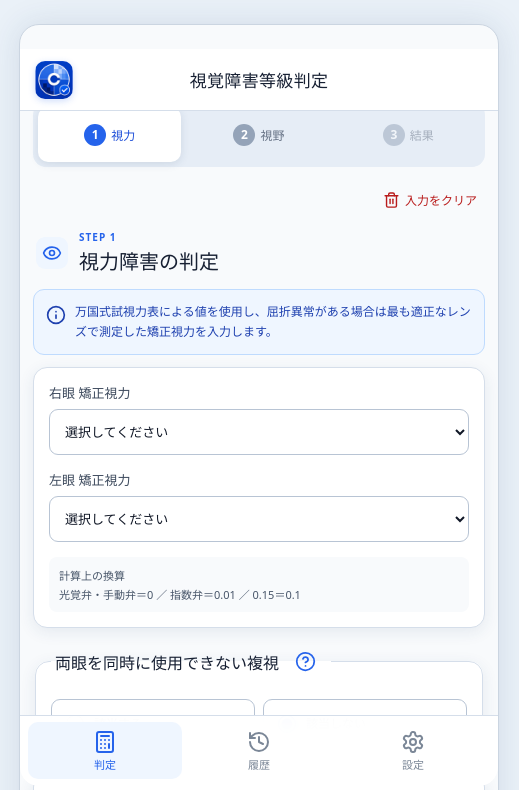
Test: 判定フロー › 未確認の矯正視力は判定しない
Select "0.04" in the dropdown labelled "右眼 矯正視力" at (259, 432), box [49, 409, 469, 455]
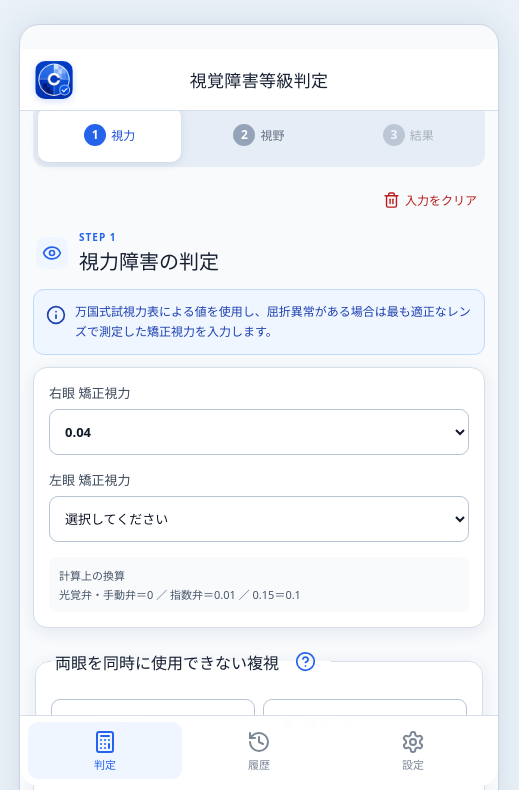
Select "手動弁" in the dropdown labelled "左眼 矯正視力" at (259, 519), box [49, 496, 469, 542]
(page scrolled)
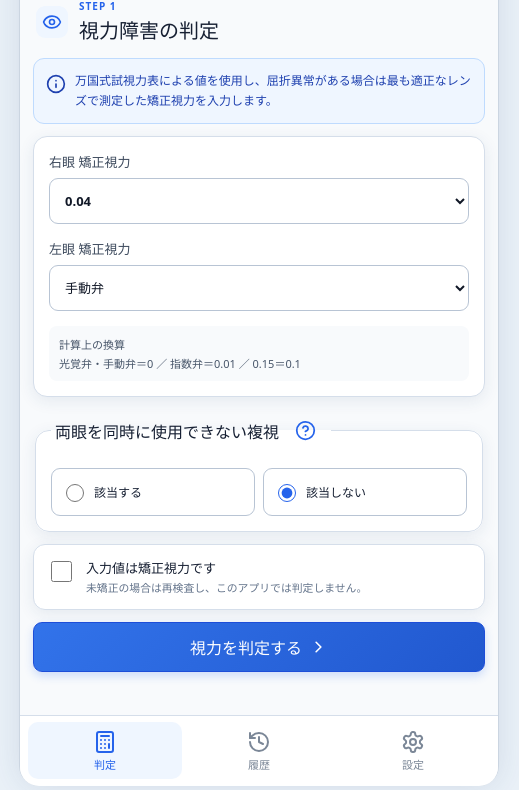
Click the button "視力を判定する" at (259, 647), box [33, 622, 485, 672]
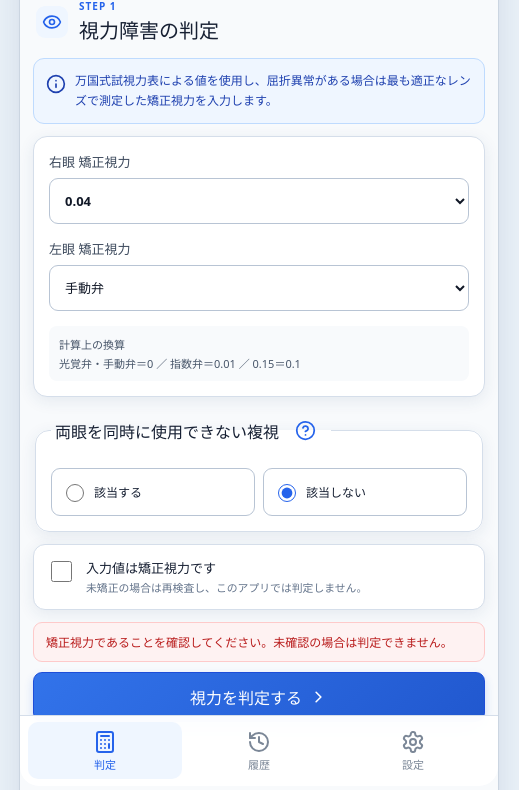
Check: the message shows "矯正視力であることを確認", box [46, 634, 453, 651]
